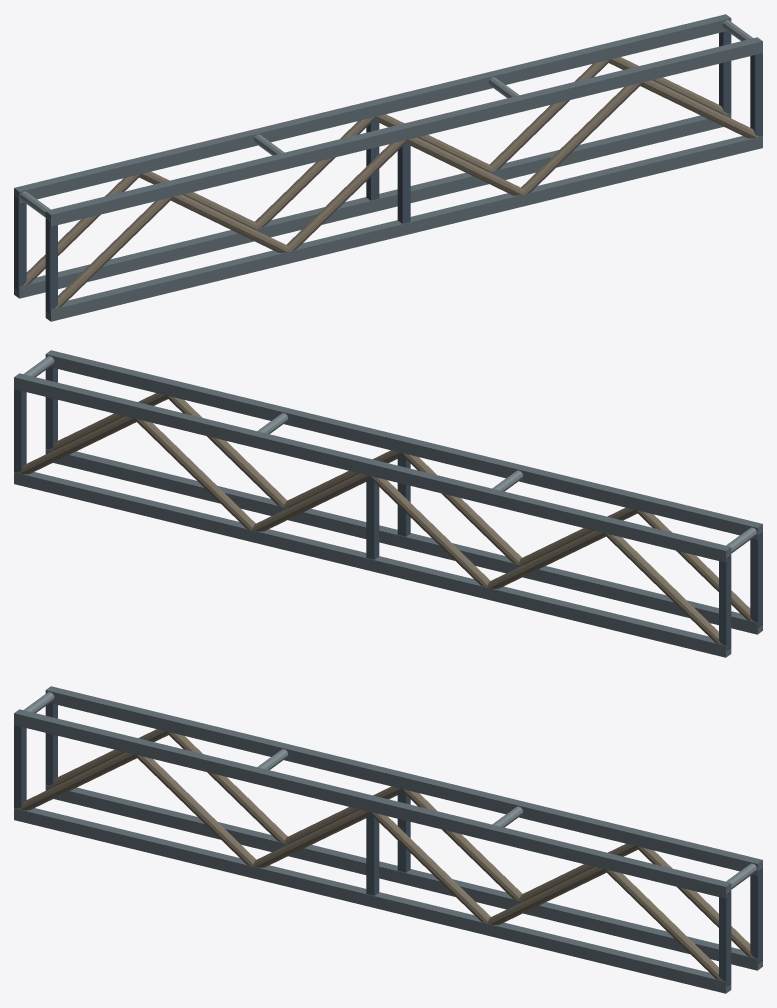
Rendered from HV-01_warren_bay.glb.
The picture shows the model from 3 angles, top to bottom: view 1: azimuth 30°, elevation 25°; view 2: azimuth 150°, elevation 25°; view 3: azimuth 330°, elevation 25°; orthographic projection.
Parts seen in each view (by area): view 1: HV-01_warren_bay; view 2: HV-01_warren_bay; view 3: HV-01_warren_bay.
Boxes of the visible parts, x1,y1,x2,y2 form: HV-01_warren_bay: (14, 14, 762, 321); HV-01_warren_bay: (14, 350, 762, 657); HV-01_warren_bay: (14, 686, 762, 993).
Bounding box in the file's own units: 12.02 × 1.72 × 1.08.
